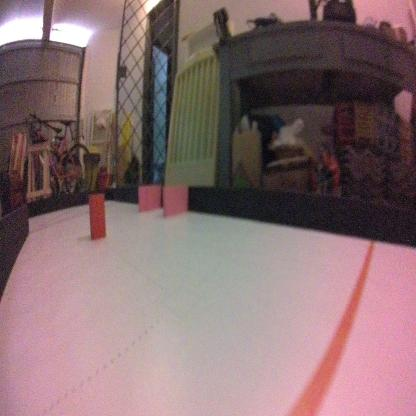magenta: (163, 183, 188, 220), (136, 183, 162, 215)
red: (88, 191, 107, 242)
